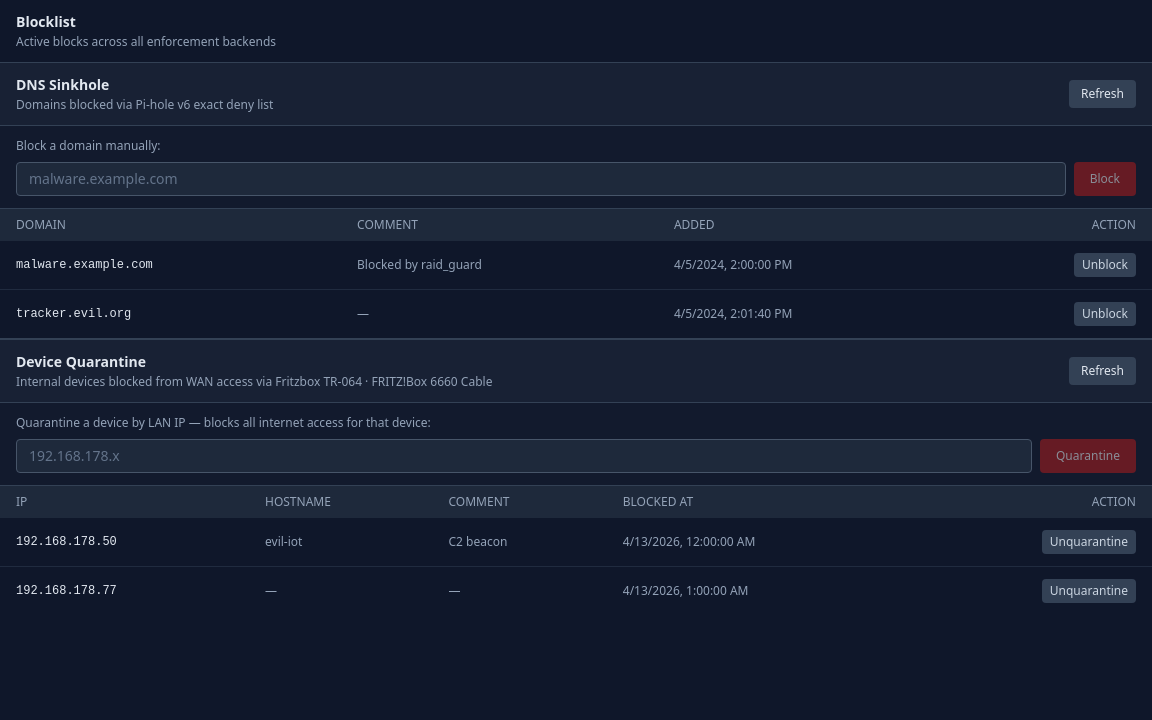
Test: BlocklistPage — Device Quarantine — quarantine › shows error when quarantine fails
Expected: the text "192.168.178.50" is shown, [0,518,249,566]
In the field named "ip to quarantine": coordinates (524, 456) [16,439,1032,473], type "192.168.178.99"
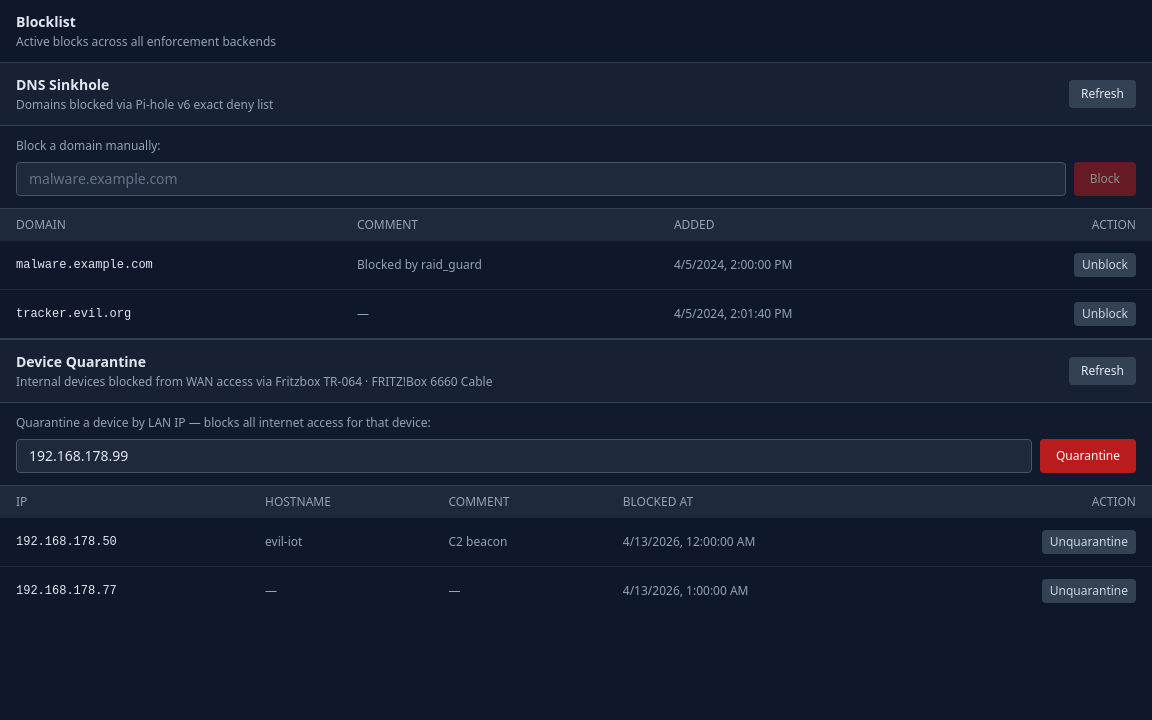
Click the button "Quarantine": coordinates (1088, 456) [1040,439,1136,473]
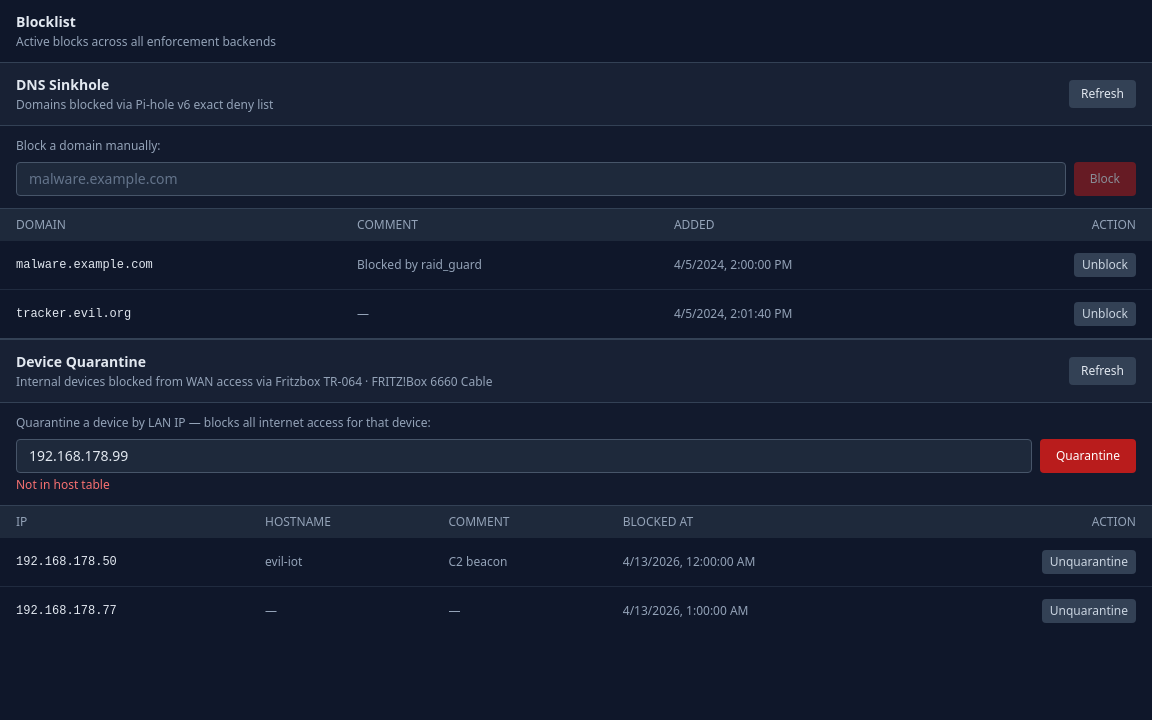
Result: the text "Not in host table" is shown at [16,476,110,493]
